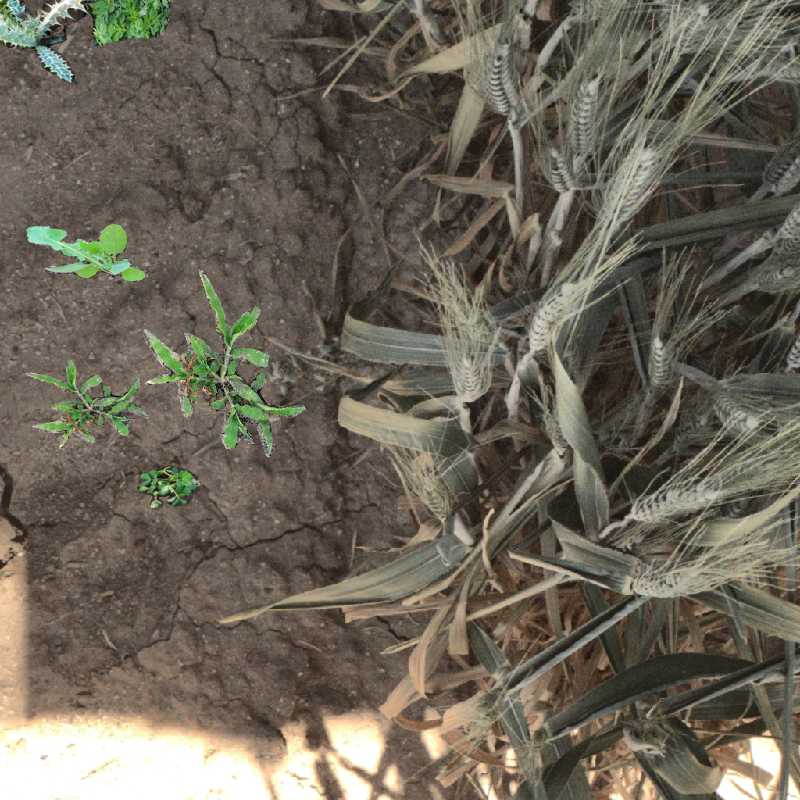spikelet: (618, 458, 767, 529), (594, 141, 659, 229), (521, 276, 589, 355), (611, 556, 718, 603), (702, 383, 767, 438), (477, 40, 521, 118), (565, 75, 603, 157), (408, 461, 457, 523), (465, 685, 512, 743), (538, 142, 576, 195), (642, 332, 675, 392), (762, 144, 800, 195), (449, 352, 483, 402), (772, 186, 800, 245)
weed: (138, 268, 330, 460), (24, 359, 149, 449), (1, 1, 102, 84), (26, 223, 146, 282), (87, 1, 171, 46), (137, 465, 201, 510)
